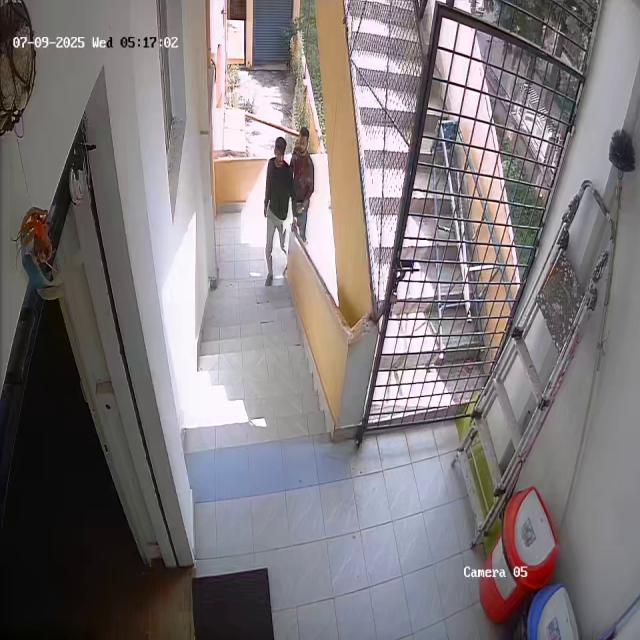person: (261, 133, 288, 284), (290, 127, 324, 245)
